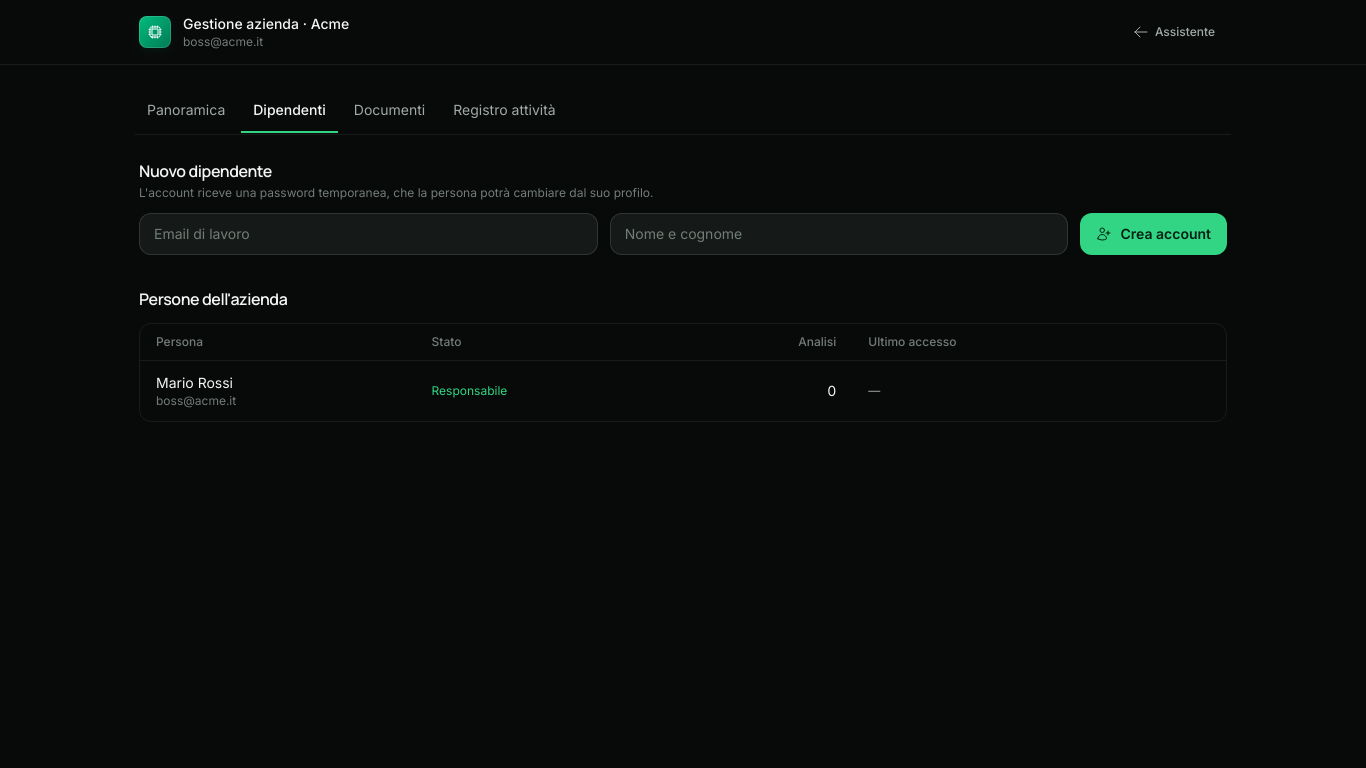
it: gestione azienda › crea un dipendente e mostra una sola volta la password temporanea
Type "worker@acme.it" into the field with placeholder "Email di lavoro" at {"x": 368, "y": 234}, box [139,213,598,255]
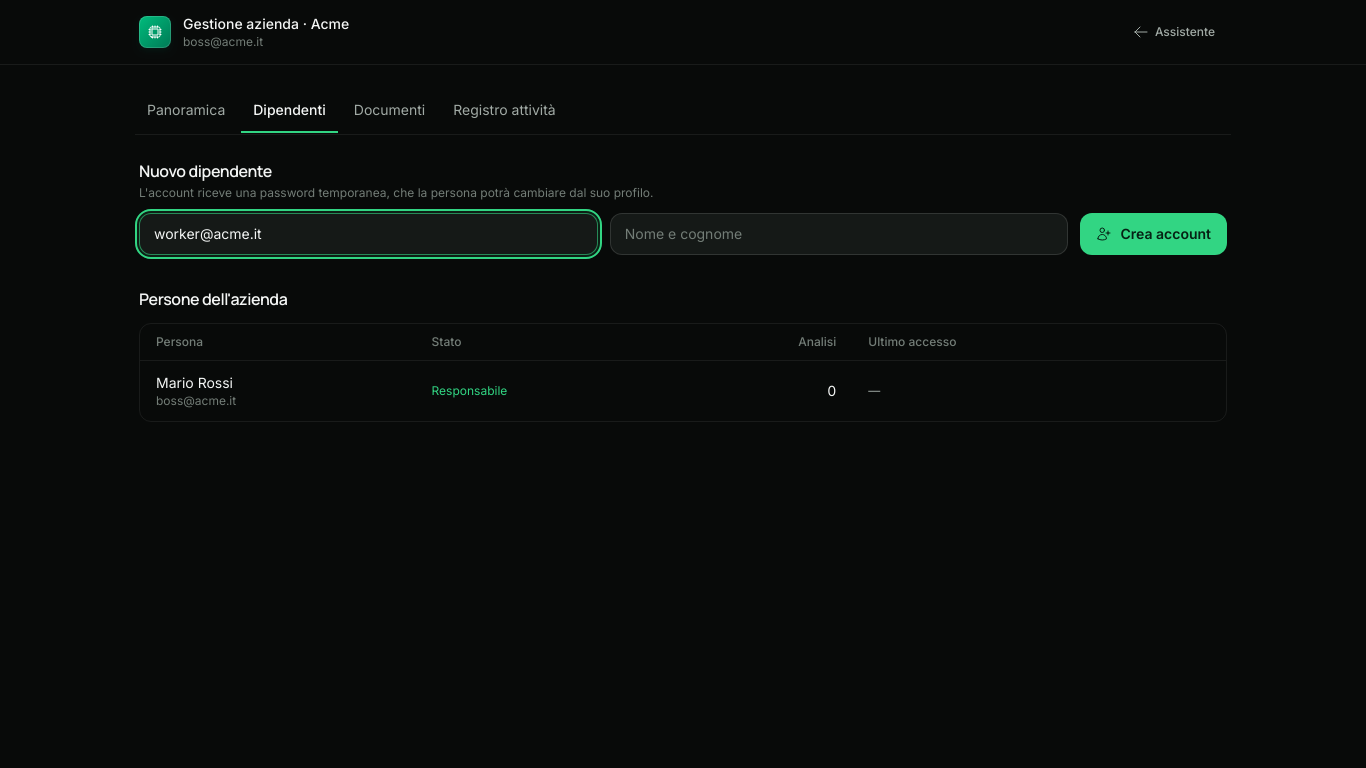
Type "Luca Bianchi" into the field with placeholder "Nome e cognome" at {"x": 839, "y": 234}, box [610,213,1068,255]
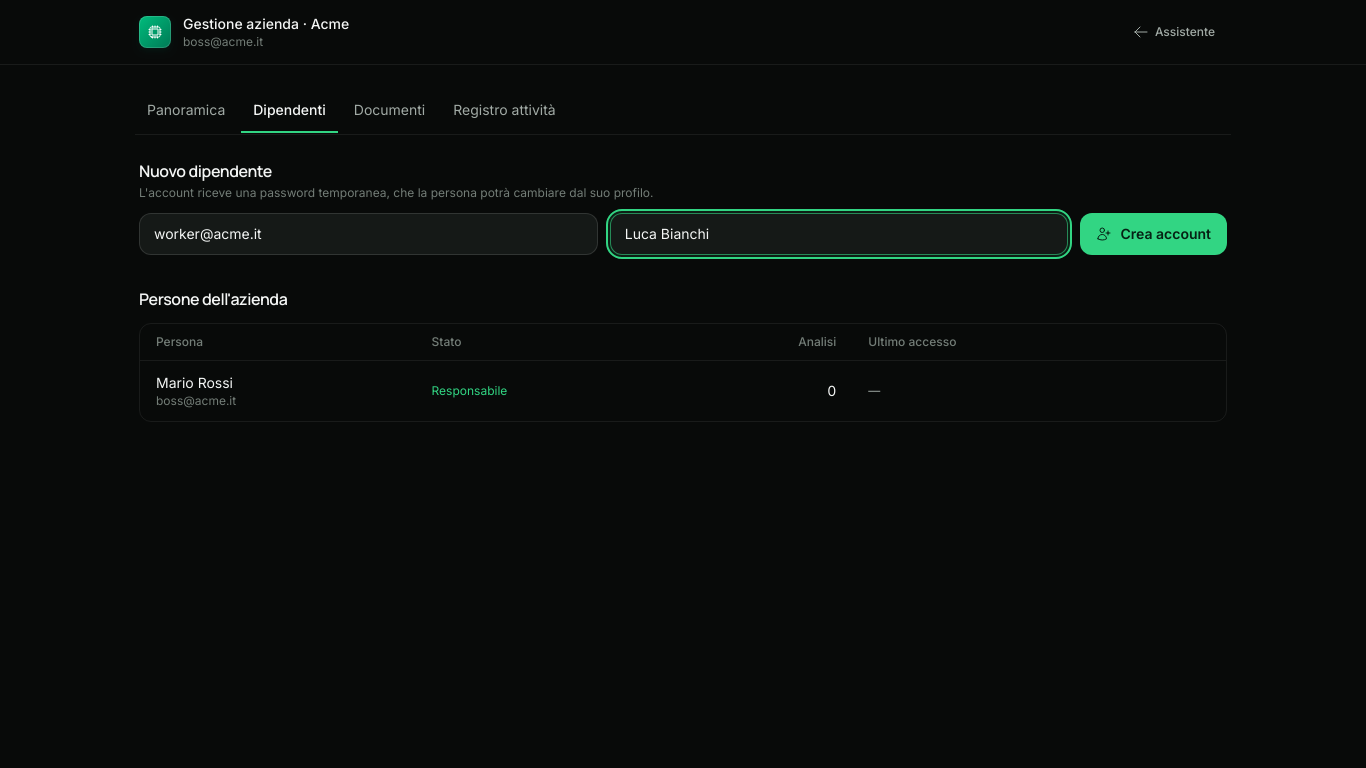
Click the button "Crea account" at {"x": 1154, "y": 234}, box [1080,213,1227,255]
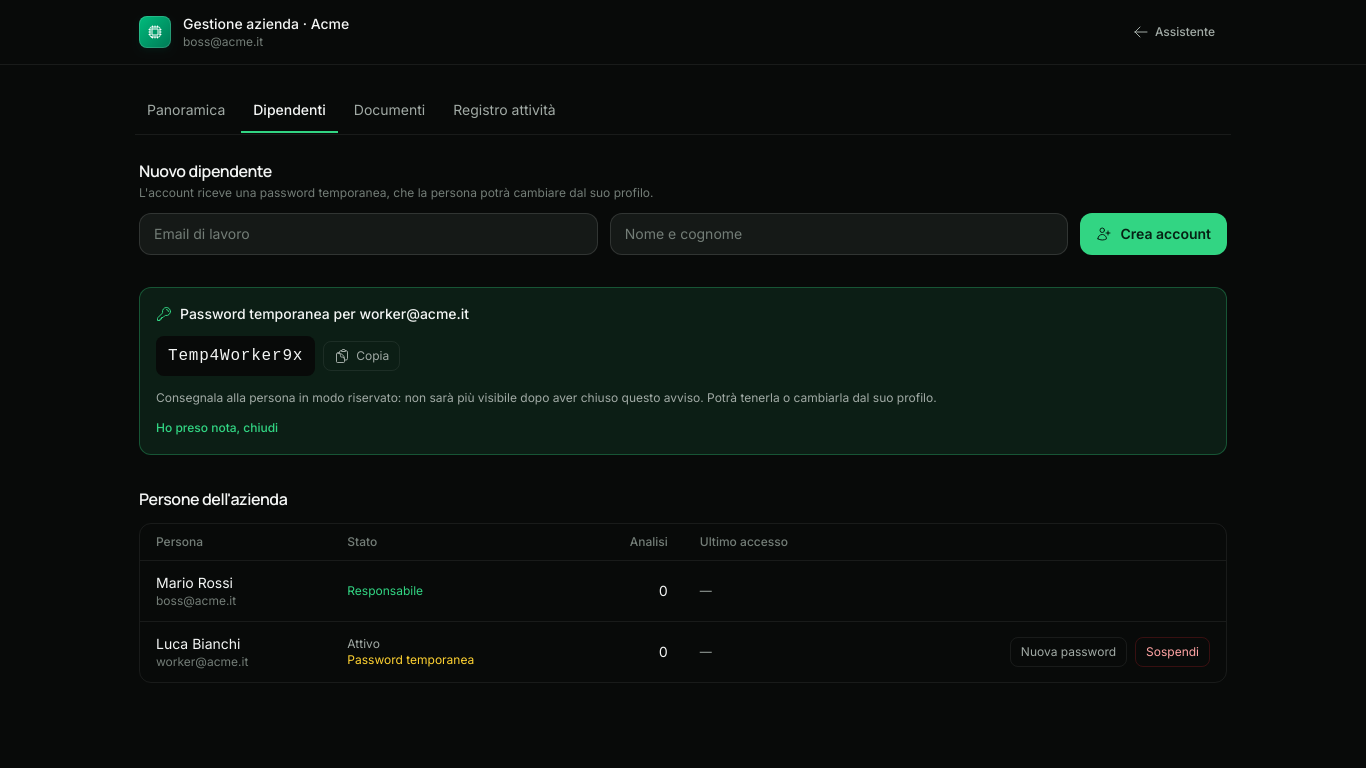
Result: the text "Temp4Worker9x" is shown at [156,336,315,376]
Result: the text "worker@acme.it" is shown at [156,654,248,669]
Result: the text "Password temporanea" is shown at [347,652,474,667]
Click the button "Ho preso nota, chiudi" at {"x": 217, "y": 428}, box [156,420,278,436]
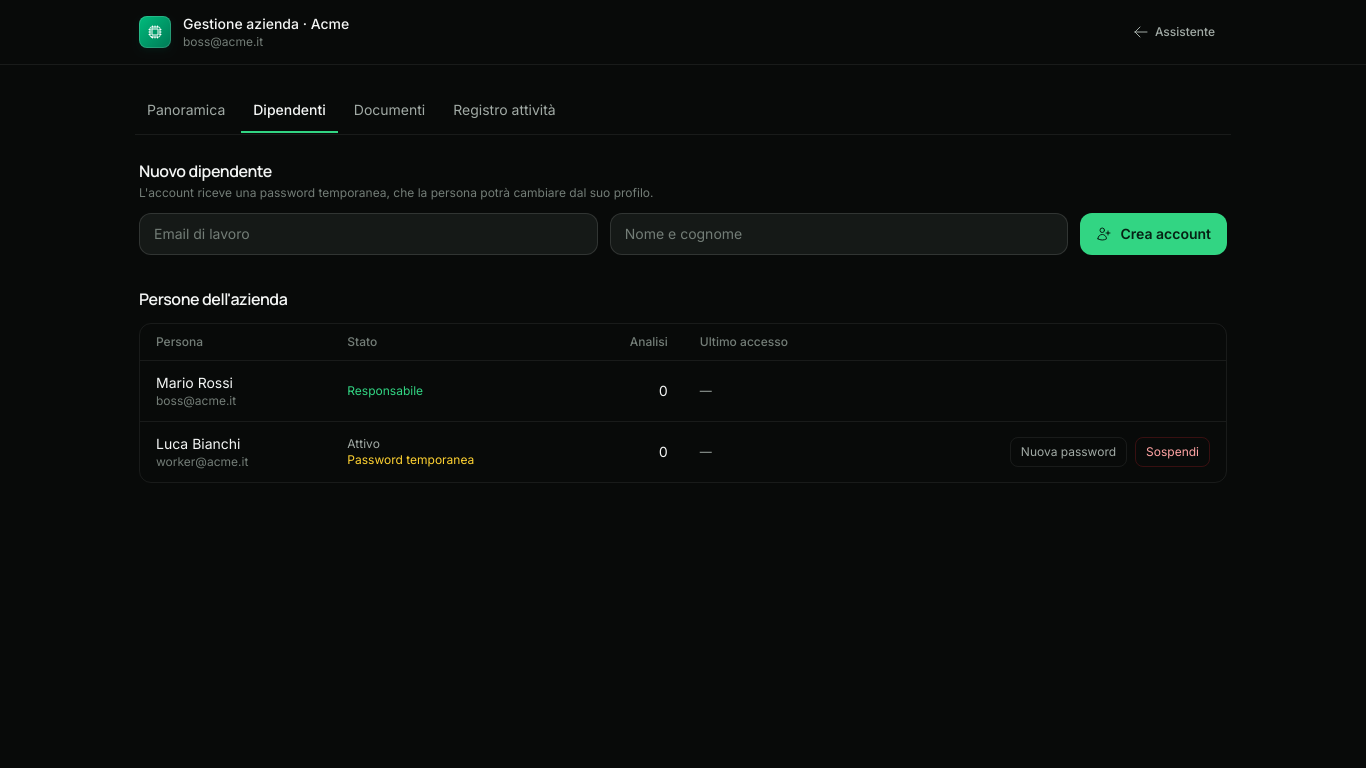
Result: the text "Temp4Worker9x" is gone
